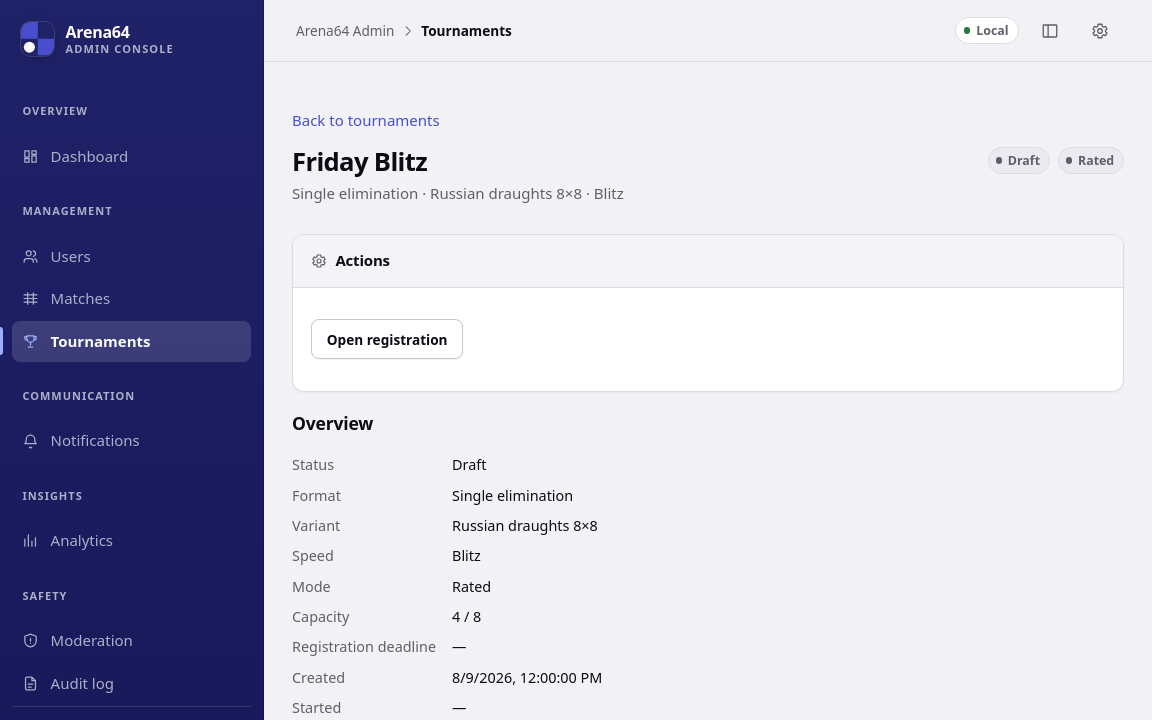
Test case: says which command was refused, not merely that something was
Click the button "Open registration". click: (387, 339)
box: [311,319,463,359]
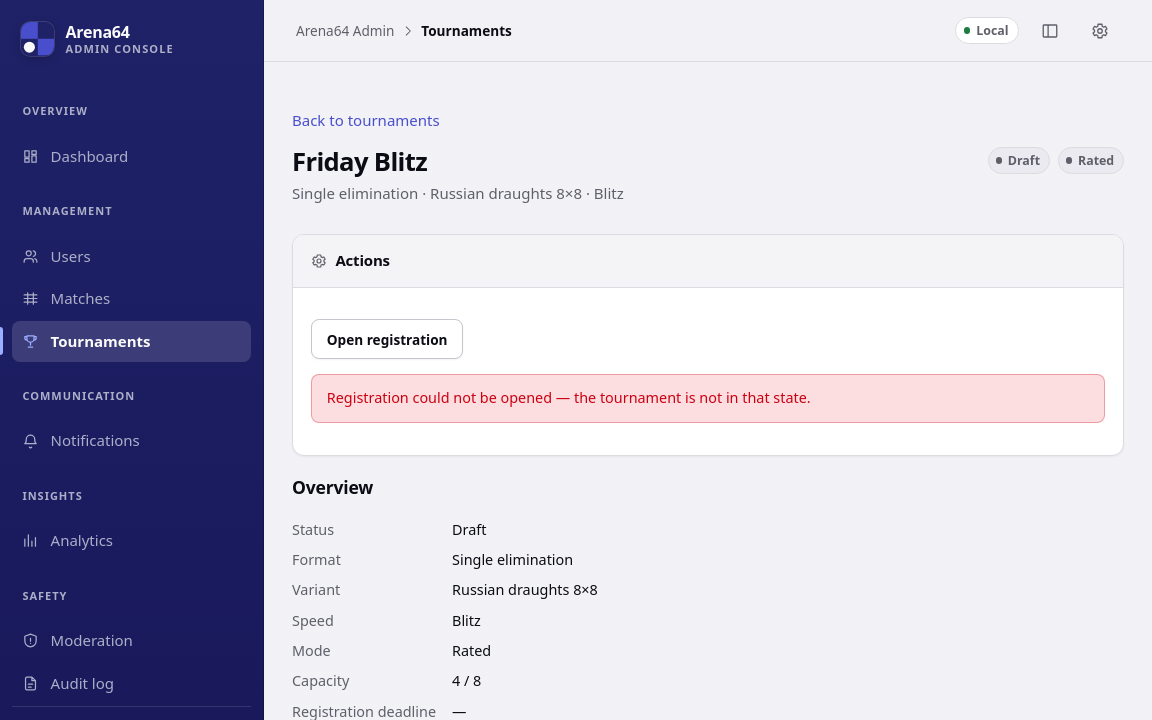
Check: the message reads "Registration could not be opened — the tournament is not in that state.", box [327,388,811,407]
